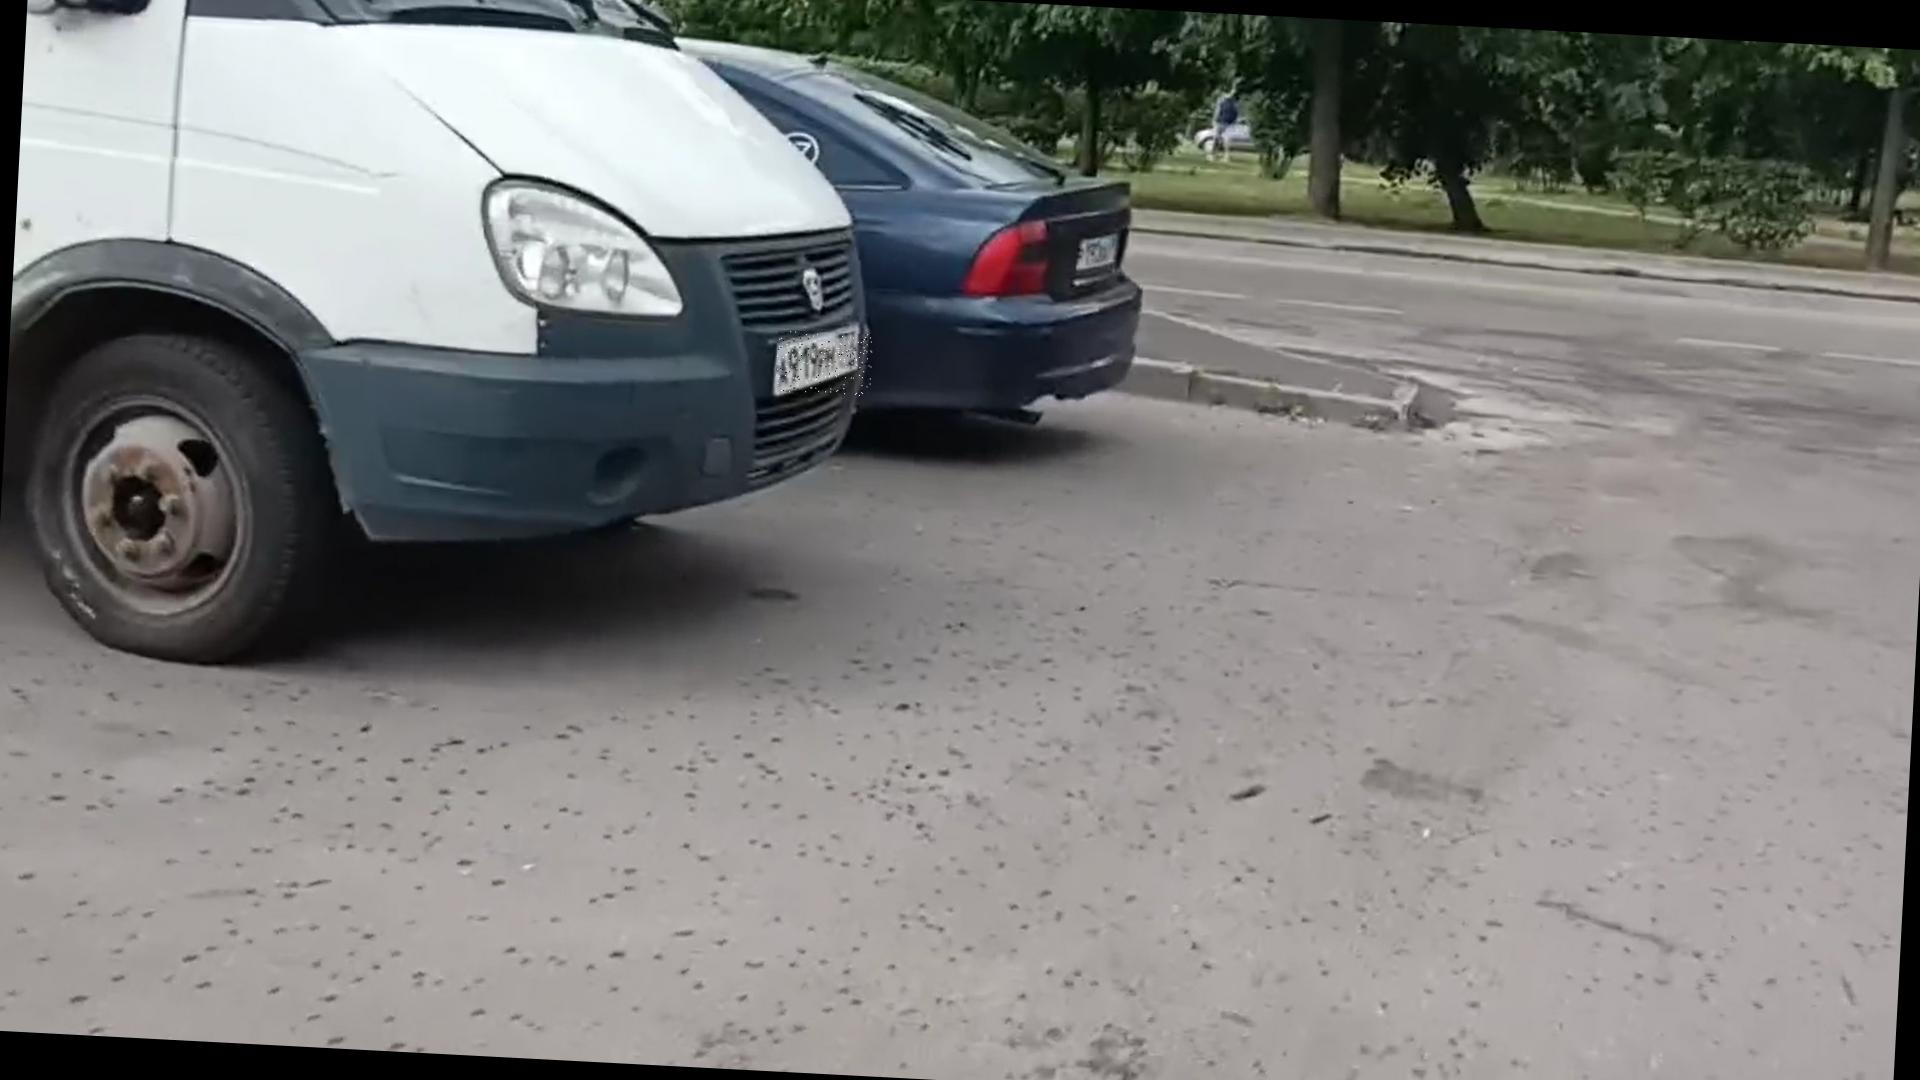plate: (777, 331, 875, 398)
